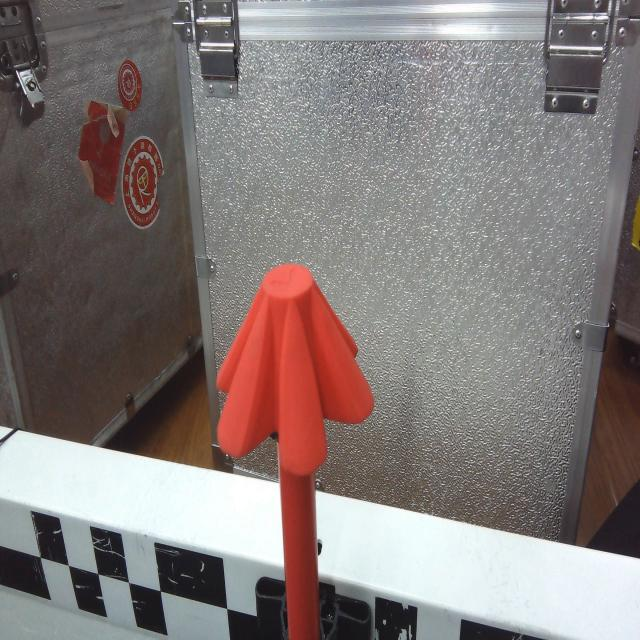zred-Stake-Head: (217, 262, 375, 477)
